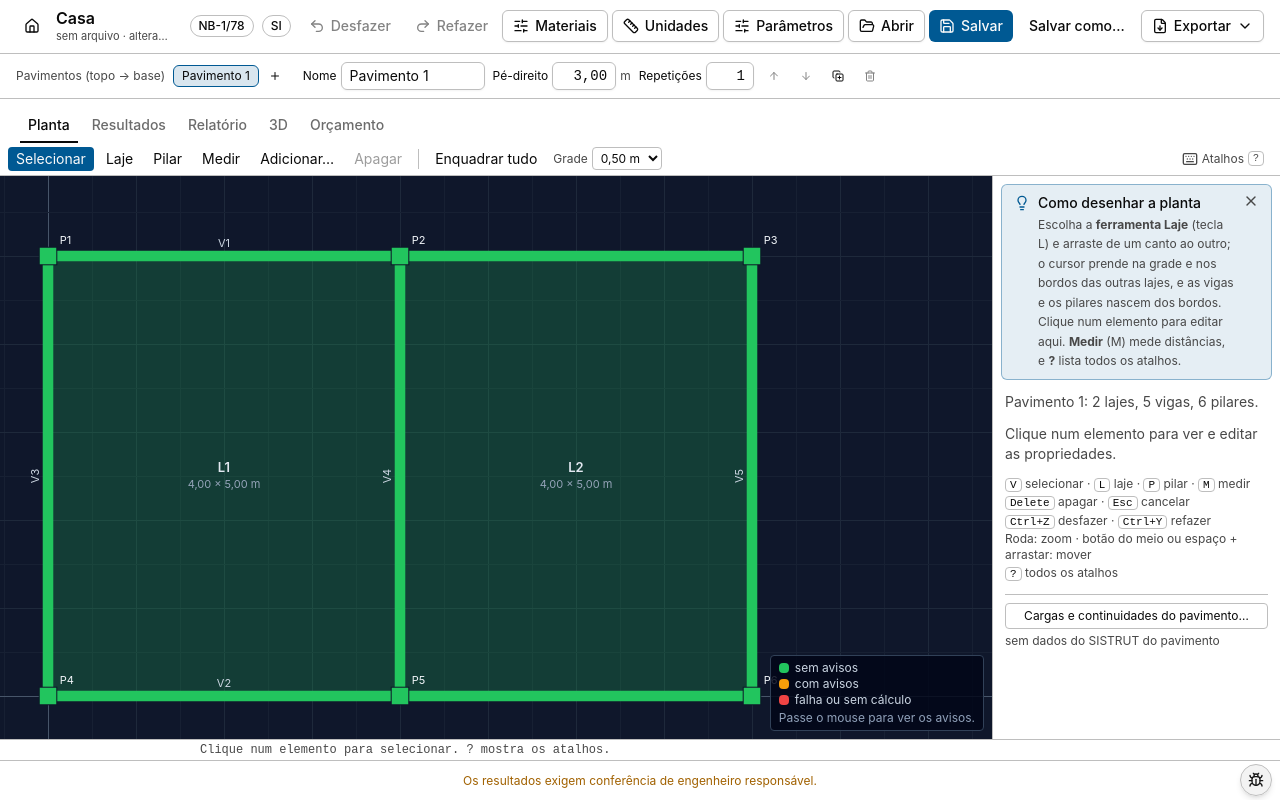
Scenario: tela da obra: confirmação de abrir outra obra › com alterações não salvas, o diálogo diz o que se perde e não abre o seletor sozinho
The width and height of the screenshot is (1280, 800).
Expected: the heading "Casa" is shown, [56,8,95,28]
Click the button "Abrir" at (886, 26), box [848,10,925,42]
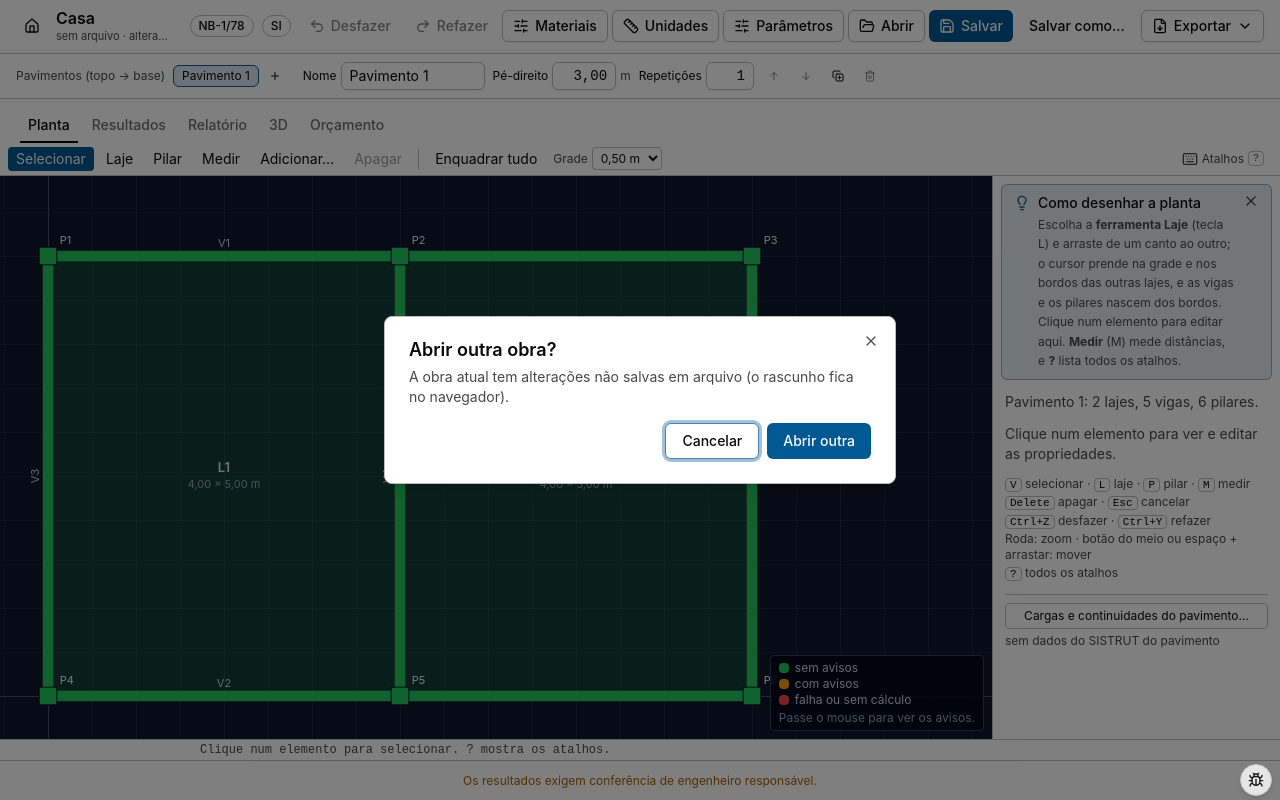
Expected: the dialog "Abrir outra obra?" shows "alterações não salvas em arquivo", [409,368,854,405]
